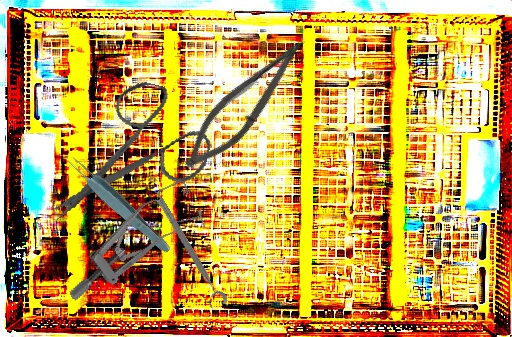Fixation Ring: (147, 195, 230, 312)
Iris Scissors: (49, 67, 222, 252)
Micro Scissor: (173, 22, 315, 183)
Speculum: (46, 177, 214, 303)
Tissue Forceps: (63, 151, 175, 257)
